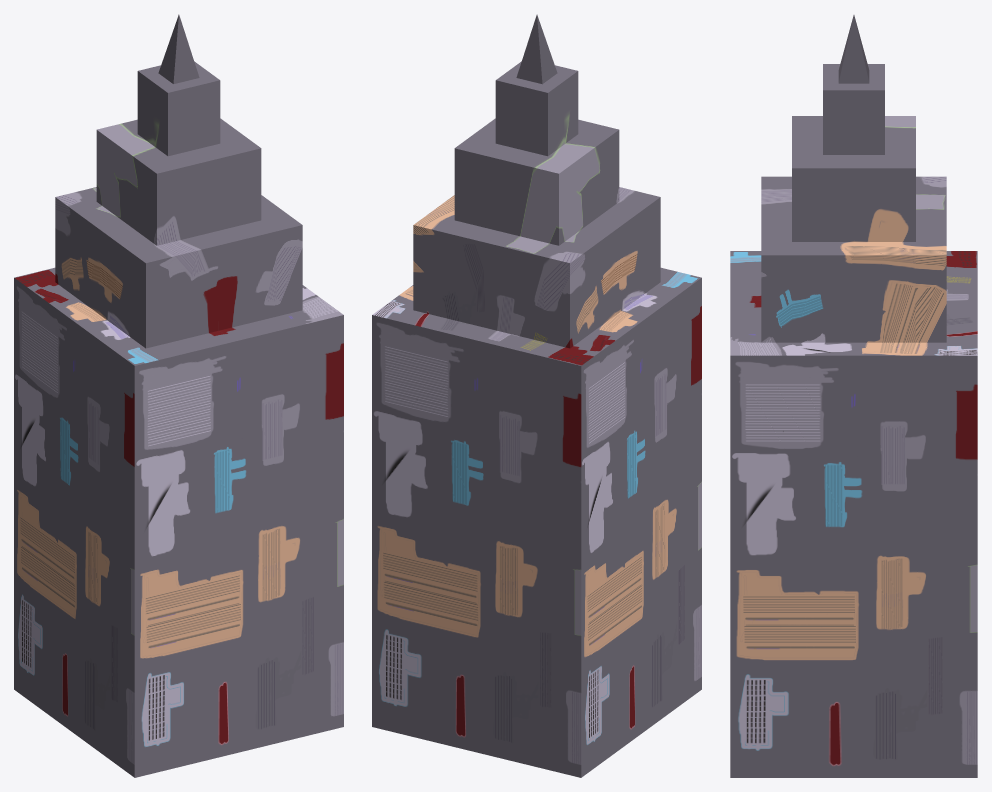
File: TerraceBuilding_Mesh.fbx
The picture shows the model from 3 angles, left to right: view 1: azimuth 30°, elevation 25°; view 2: azimuth 150°, elevation 25°; view 3: azimuth 270°, elevation 25°; orthographic projection. The views are drawn at different scales.
Visible parts, largest first — view 1: Cube.001; view 2: Cube.001; view 3: Cube.001.
Boxes of the visible parts, left/top/right/bottom form: Cube.001: left=14, top=14, right=343, bottom=777; Cube.001: left=372, top=14, right=701, bottom=777; Cube.001: left=730, top=15, right=977, bottom=777.
Size of the model in its own units: 582 by 1847 by 582.
1 material, 1 textured.
